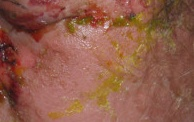SJS-TEN: (8, 4, 108, 40), (0, 27, 28, 121)
